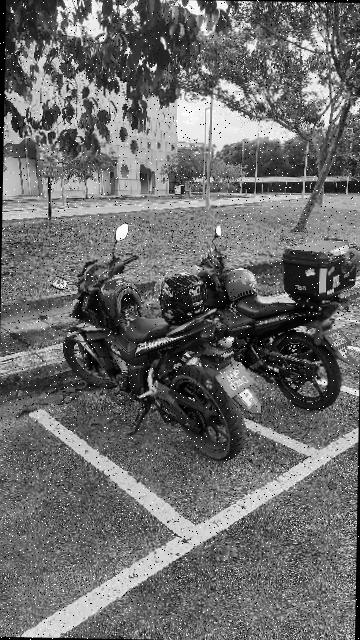License_Plate: (216, 363, 259, 400), (322, 329, 352, 353)
motorcycle: (44, 222, 266, 463), (165, 229, 356, 416)
